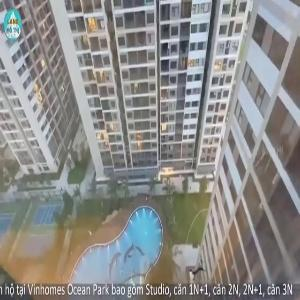drone: (173, 245, 224, 296)
